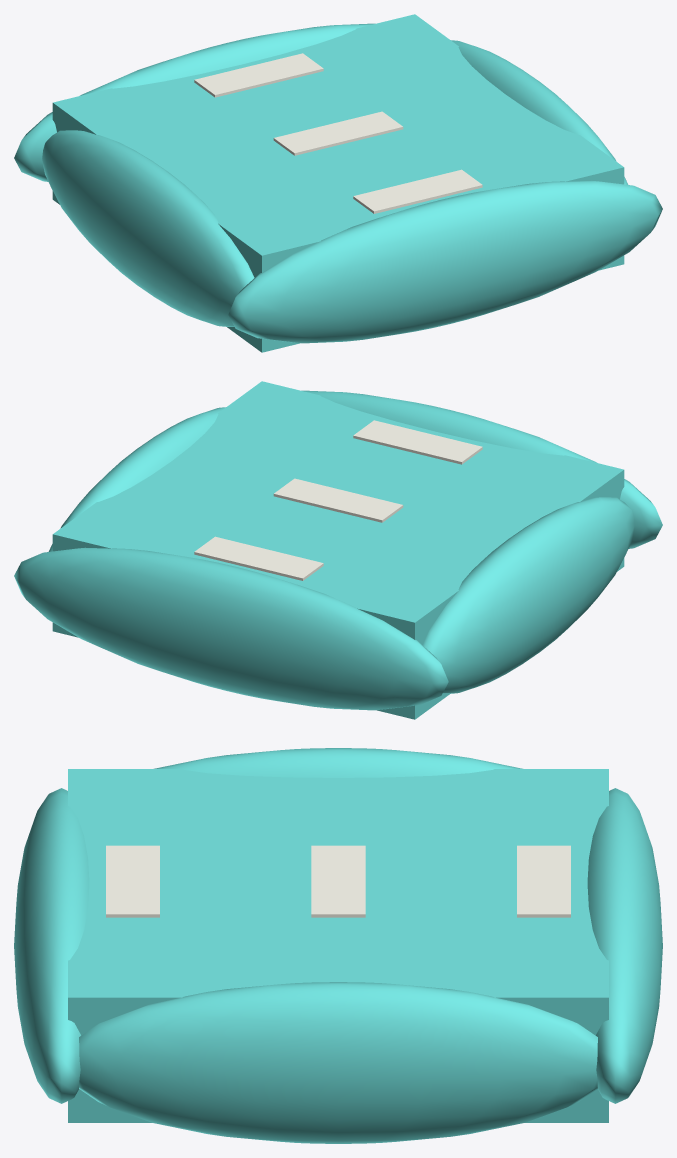
Rendered from course_step.glb.
3 views of the same model, one above another, from view 1: azimuth 30°, elevation 25°; view 2: azimuth 150°, elevation 25°; view 3: azimuth 270°, elevation 25° (orthographic). The views are drawn at different scales.
Parts seen in each view (by area): view 1: seamed rim (×4), flat inflatable deck, route stripe (×3); view 2: seamed rim (×4), flat inflatable deck, route stripe (×3); view 3: seamed rim (×4), flat inflatable deck, route stripe (×3).
Boxes of the visible parts, box(x1,y1,x2,y2) form: seamed rim (×4): box(14, 23, 662, 343); flat inflatable deck: box(52, 14, 624, 352); route stripe (×3): box(194, 53, 482, 213); seamed rim (×4): box(14, 390, 662, 710); flat inflatable deck: box(52, 381, 624, 719); route stripe (×3): box(194, 420, 482, 580); seamed rim (×4): box(14, 748, 662, 1143); flat inflatable deck: box(68, 769, 608, 1122); route stripe (×3): box(106, 845, 570, 917).
Bounding box in the file's own units: 3 × 0.8 × 3.
